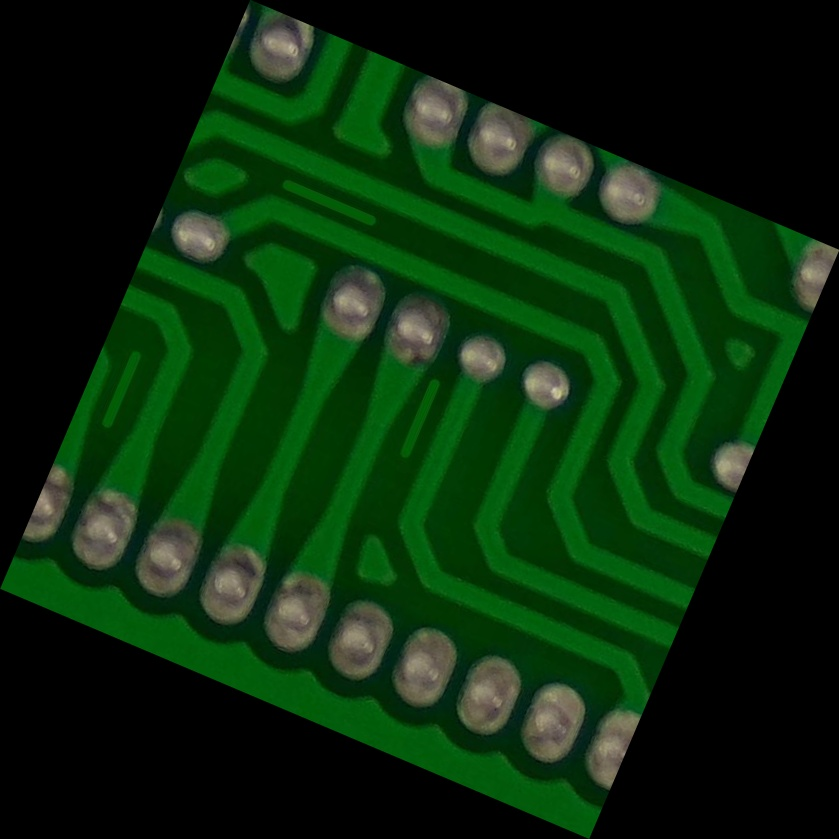spurious_copper: (374, 356, 465, 483)
